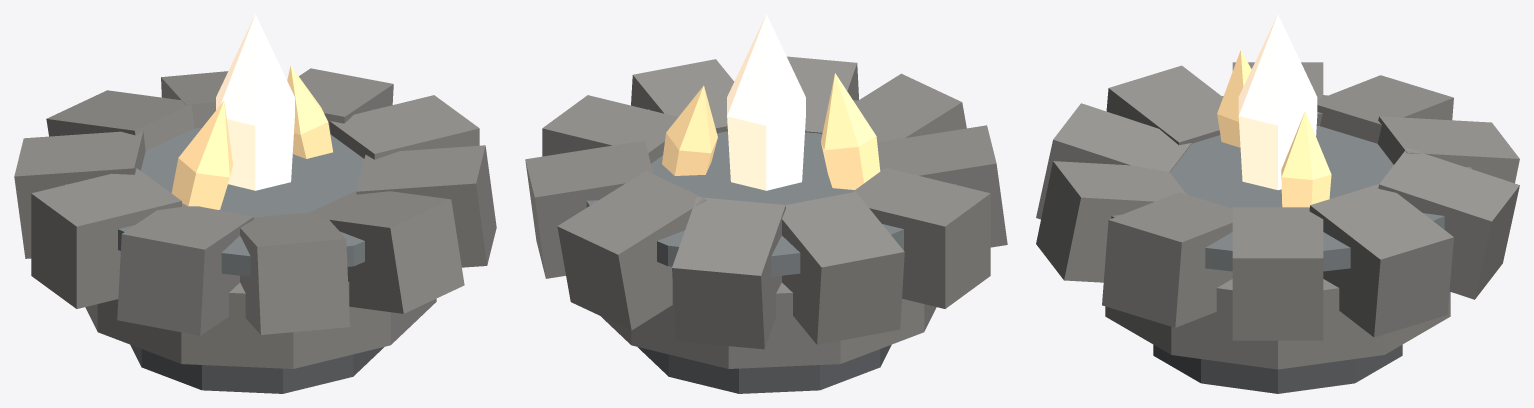
The model's file is decor-geode-bowl.glb.
The picture shows the model from 3 angles, left to right: view 1: azimuth 30°, elevation 25°; view 2: azimuth 150°, elevation 25°; view 3: azimuth 270°, elevation 25°; orthographic projection.
Visible parts, largest first — view 1: rim-stone-4, rim-stone-2, rim-stone-5, bowl-base, rim-stone-3, cluster-center, iron-rim, rim-stone-1, rim-stone-6, rim-stone-0, foot, rim-stone-7 (+4 smaller); view 2: rim-stone-6, rim-stone-7, rim-stone-8, rim-stone-5, cluster-center, bowl-base, rim-stone-9, iron-rim, rim-stone-4, rim-stone-0, foot, rim-stone-3 (+4 smaller); view 3: rim-stone-9, rim-stone-1, rim-stone-0, bowl-base, rim-stone-8, rim-stone-2, iron-rim, cluster-center, rim-stone-3, rim-stone-4, rim-stone-7, foot (+4 smaller).
Boxes of the visible parts, box(x1,y1,x2,y2) form: rim-stone-4: box(117, 203, 253, 335); rim-stone-2: box(310, 190, 464, 313); rim-stone-5: box(31, 168, 181, 308); bowl-base: box(85, 281, 436, 368); rim-stone-3: box(240, 212, 349, 334); cluster-center: box(216, 14, 294, 190); iron-rim: box(65, 109, 373, 276); rim-stone-1: box(356, 145, 496, 267); rim-stone-6: box(14, 131, 145, 258); rim-stone-0: box(329, 95, 479, 159); foot: box(130, 345, 383, 393); rim-stone-7: box(46, 90, 195, 150); rim-stone-6: box(782, 192, 904, 344); rim-stone-7: box(672, 197, 785, 349); rim-stone-8: box(557, 171, 706, 330); rim-stone-5: box(852, 167, 990, 308); cluster-center: box(727, 14, 805, 190); bowl-base: box(601, 282, 936, 368); rim-stone-9: box(525, 140, 653, 278); iron-rim: box(586, 100, 956, 276); rim-stone-4: box(877, 125, 1007, 247); rim-stone-0: box(542, 95, 678, 163); foot: box(638, 345, 891, 393); rim-stone-3: box(821, 73, 966, 142); rim-stone-9: box(1309, 184, 1453, 337); rim-stone-1: box(1102, 192, 1232, 327); rim-stone-0: box(1232, 207, 1323, 340); bowl-base: box(1105, 279, 1450, 369); rim-stone-8: box(1378, 148, 1519, 299); rim-stone-2: box(1036, 161, 1186, 282); iron-rim: box(1111, 95, 1471, 271); cluster-center: box(1238, 14, 1317, 189); rim-stone-3: box(1036, 103, 1191, 219); rim-stone-4: box(1106, 65, 1222, 145); rim-stone-7: box(1377, 116, 1519, 183); foot: box(1153, 344, 1402, 393).
Bounding box in the file's own units: 0.92 × 0.7104 × 0.96.
